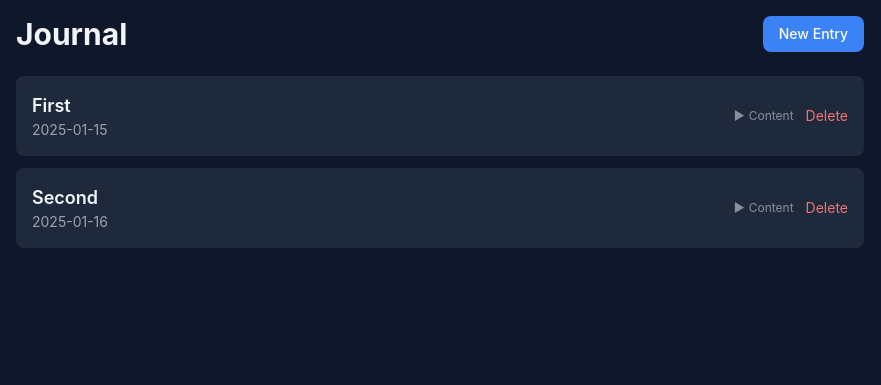
Test: JournalList › can expand multiple journal entries independently
Check: the heading "First" is shown, box x1=32 y1=95 x2=71 y2=116
Expand only the first entry
Click the button with aria-label "Toggle content".
click(764, 116)  # box x1=734 y1=108 x2=794 y2=124
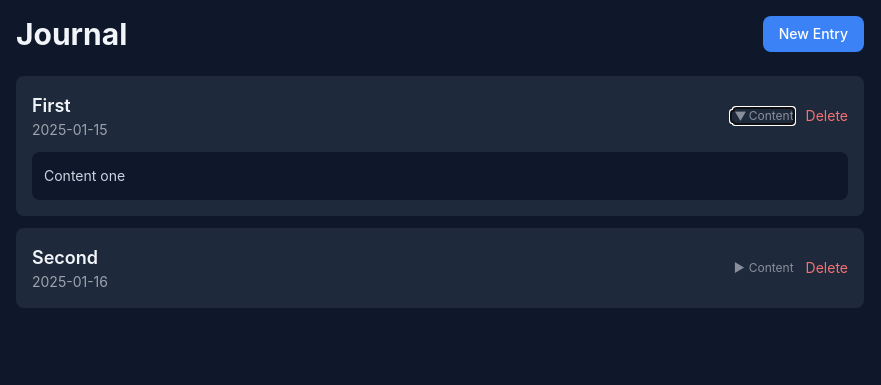
Check: the text "Content two" is not shown
Check: the text "Content one" is shown, box x1=44 y1=167 x2=125 y2=184
Expand the second entry as well
Click the button with aria-label "Toggle content".
click(764, 268)  # box x1=734 y1=260 x2=794 y2=276
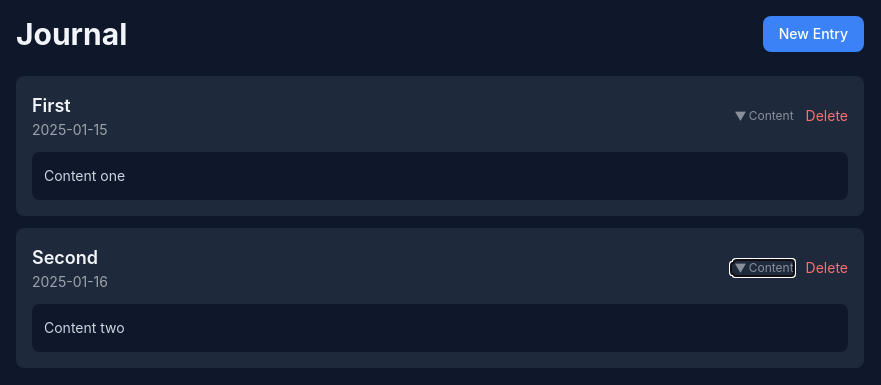
Check: the text "Content one" is shown, box x1=44 y1=167 x2=125 y2=184
Check: the text "Content two" is shown, box x1=44 y1=319 x2=125 y2=336
